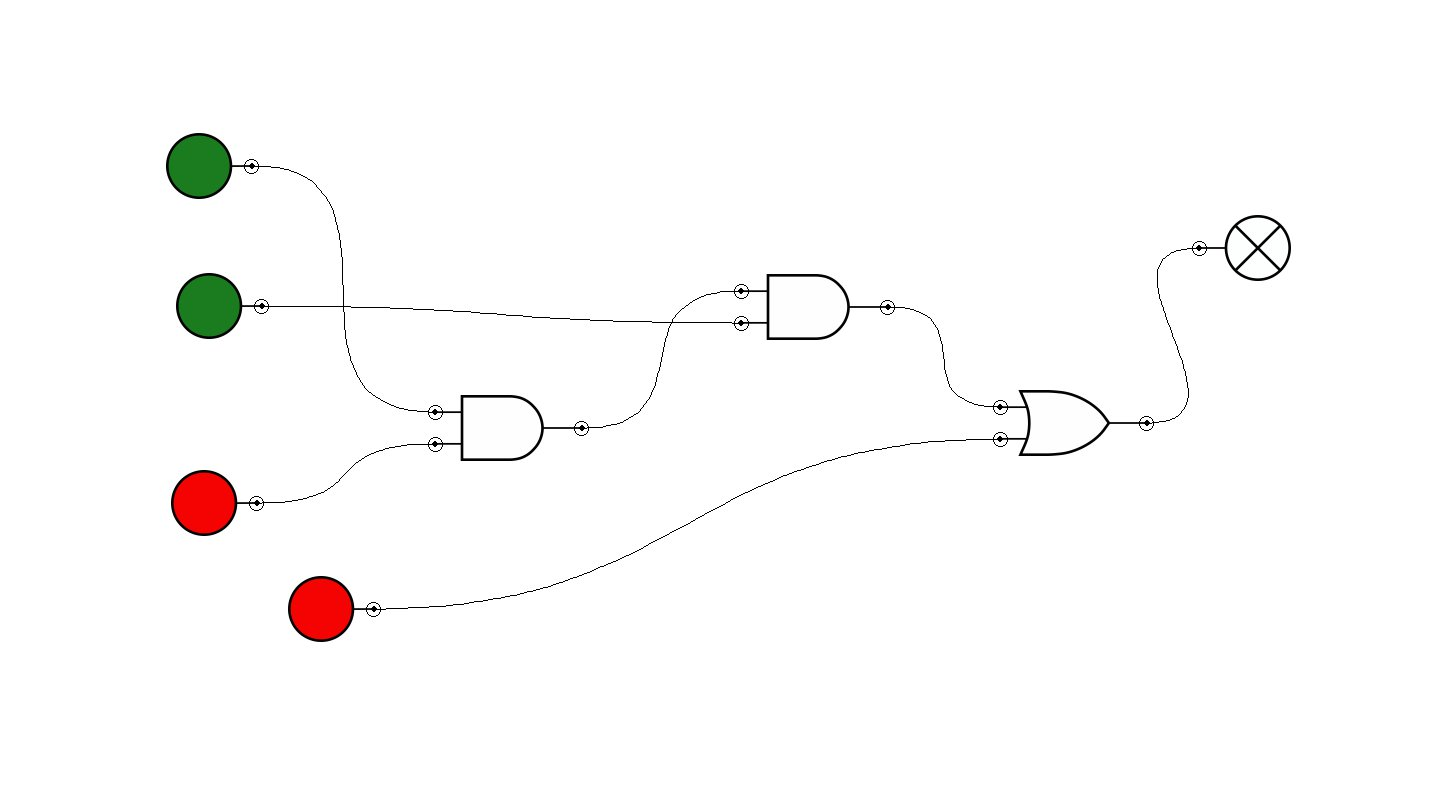and: (734, 274, 895, 340), (428, 395, 589, 461)
bulb: (1192, 215, 1291, 281)
or: (993, 390, 1154, 456)
switch_False: (171, 470, 264, 536), (288, 576, 381, 642)
switch_True: (166, 133, 259, 199), (176, 273, 269, 339)
